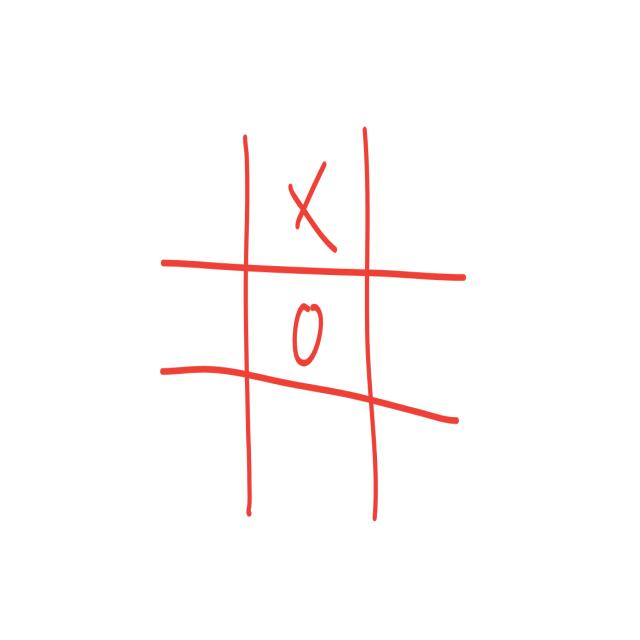X: (287, 142, 351, 260), (276, 292, 343, 378)
grid: (152, 111, 483, 529)
